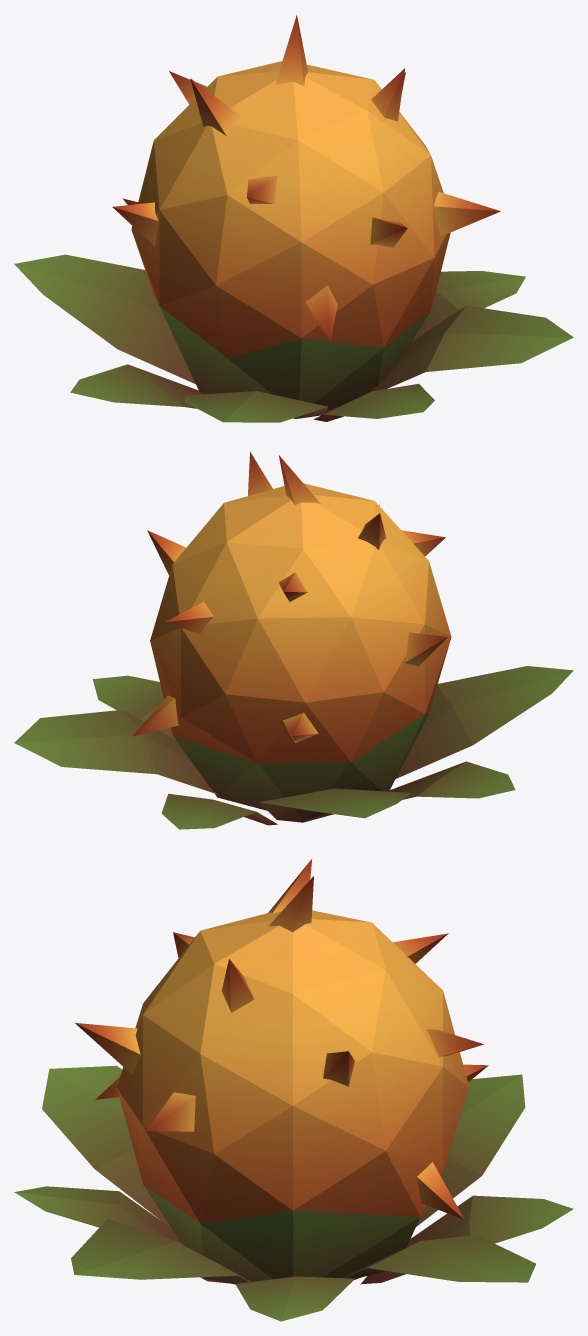
Rendered from plant_M01.FBX.
3 views of the same model, one above another, from view 1: azimuth 30°, elevation 25°; view 2: azimuth 150°, elevation 25°; view 3: azimuth 270°, elevation 25° (orthographic). The views are drawn at different scales.
Parts seen in each view (by area): view 1: plant_M01; view 2: plant_M01; view 3: plant_M01.
Boxes of the visible parts, <box> form: plant_M01: <box>14,15,573,422</box>; plant_M01: <box>14,451,573,829</box>; plant_M01: <box>14,858,573,1321</box>.
Bounding box in the file's own units: 97.11 × 79.67 × 94.85.
Materials: 1 (1 with a texture image).
